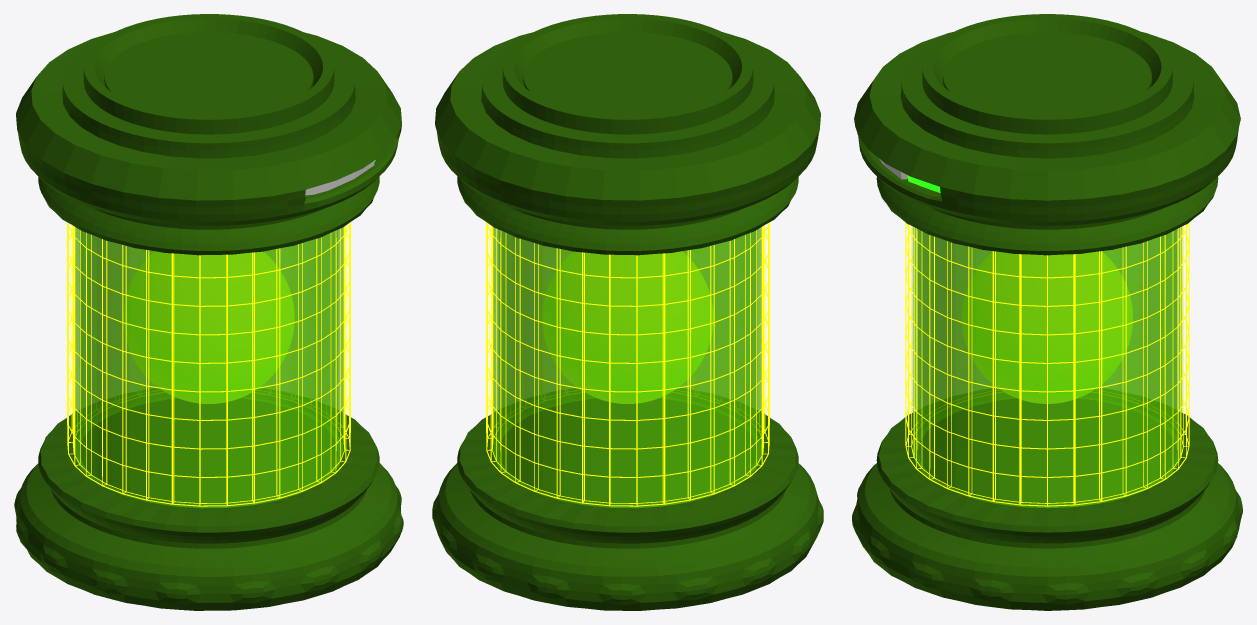
3 views of the same model, side by side, from view 1: azimuth 30°, elevation 25°; view 2: azimuth 150°, elevation 25°; view 3: azimuth 270°, elevation 25° (orthographic).
Visible parts, largest first — view 1: 円柱.002, 円柱.001, 球, 円柱; view 2: 円柱.002, 円柱.001, 球, 円柱; view 3: 円柱.002, 円柱.001, 球, 円柱.
Part boxes in pixels (x1,y1,x2,y2): 円柱.002: [14, 14, 403, 610]; 円柱.001: [75, 227, 343, 508]; 球: [123, 251, 294, 403]; 円柱: [67, 222, 350, 506]; 円柱.002: [432, 14, 823, 610]; 円柱.001: [493, 227, 761, 508]; 球: [542, 251, 713, 403]; 円柱: [486, 222, 769, 506]; 円柱.002: [852, 14, 1242, 610]; 円柱.001: [912, 227, 1182, 508]; 球: [962, 251, 1132, 403]; 円柱: [905, 222, 1189, 506].
Size of the model in its own units: 276 by 371 by 276.
